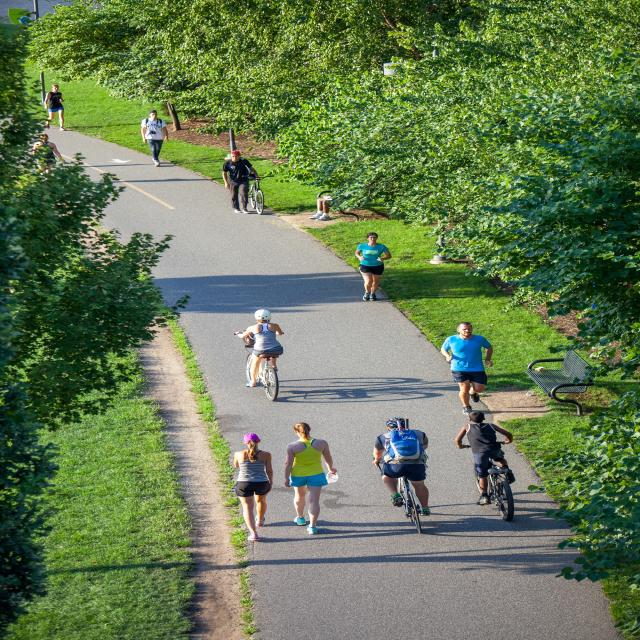adult: (283, 422, 338, 532), (372, 416, 432, 514), (455, 410, 515, 505), (441, 321, 494, 414), (231, 434, 274, 540), (237, 309, 284, 388), (354, 232, 390, 302), (222, 150, 261, 213), (140, 110, 169, 166), (32, 134, 64, 173), (44, 84, 66, 130)
